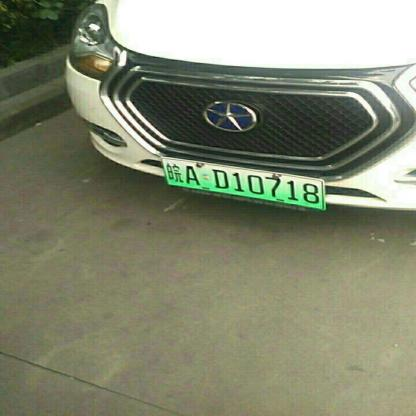lp: (159, 156, 327, 209)
